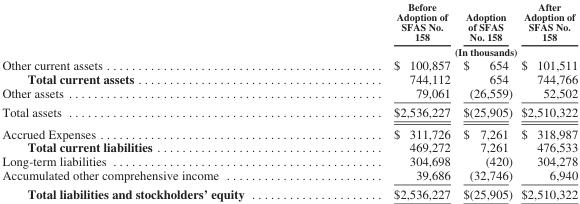table: (1, 0, 577, 200)
table column: (1, 0, 318, 200), (318, 0, 456, 200), (516, 0, 577, 200), (456, 0, 516, 200)
table column header: (1, 0, 577, 57)
table row: (1, 0, 577, 44), (1, 102, 577, 122), (1, 122, 577, 140), (1, 85, 577, 102), (1, 167, 577, 184), (1, 184, 577, 200), (1, 57, 577, 71), (1, 71, 577, 85), (1, 140, 577, 154), (1, 44, 577, 57), (1, 154, 577, 167)
table spanning cell: (318, 44, 577, 57)
